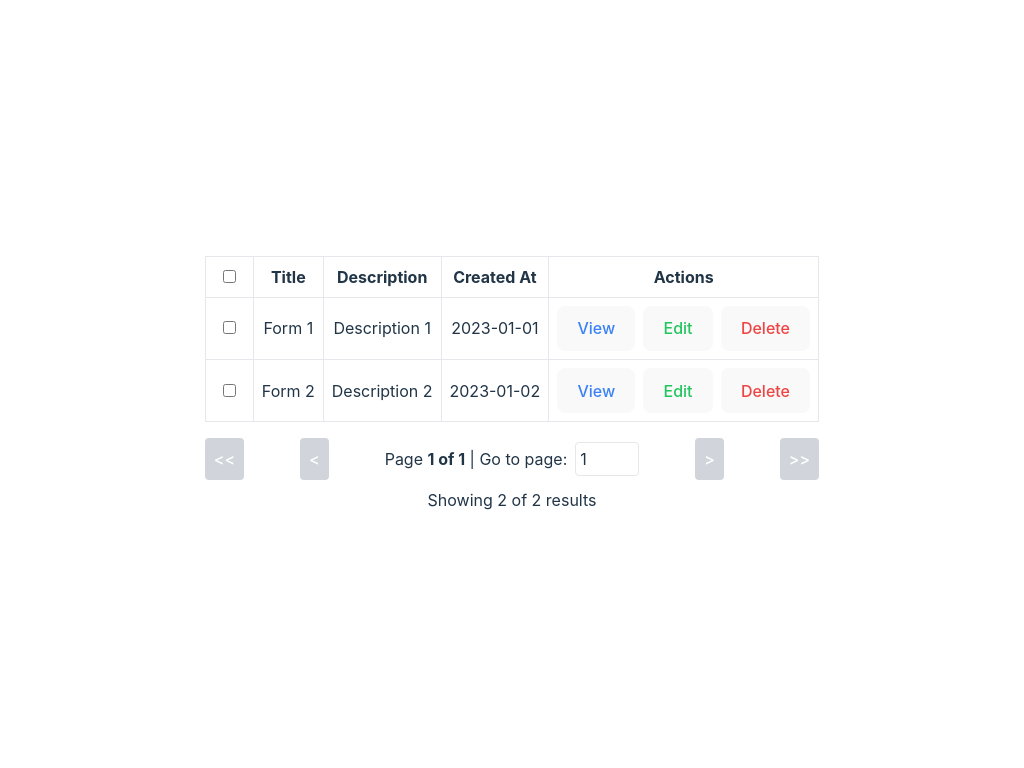
Scenario: AnamnesisFormList › cancels form deletion
Check: the text "Form 1" is shown, box [253,297,323,360]
Step 1. Click the button "Delete" in the row of "Form 1" → (765,328), box [721,306,810,351]
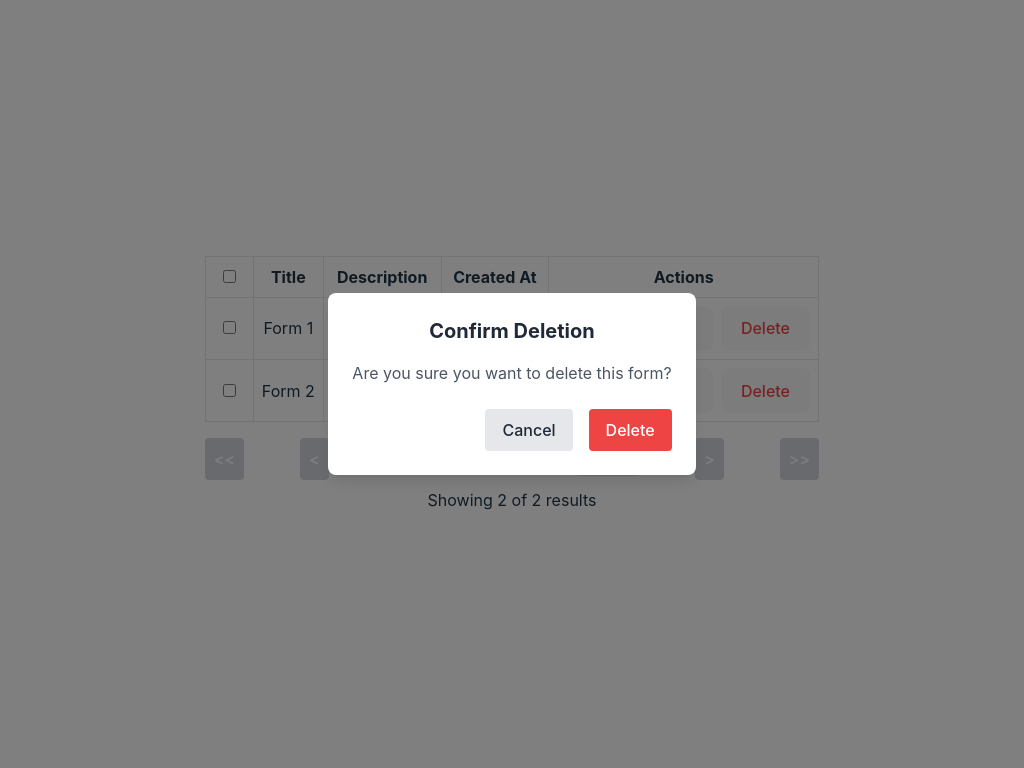
Step 2. Click the button "Cancel" → (529,430), box [486,409,573,451]
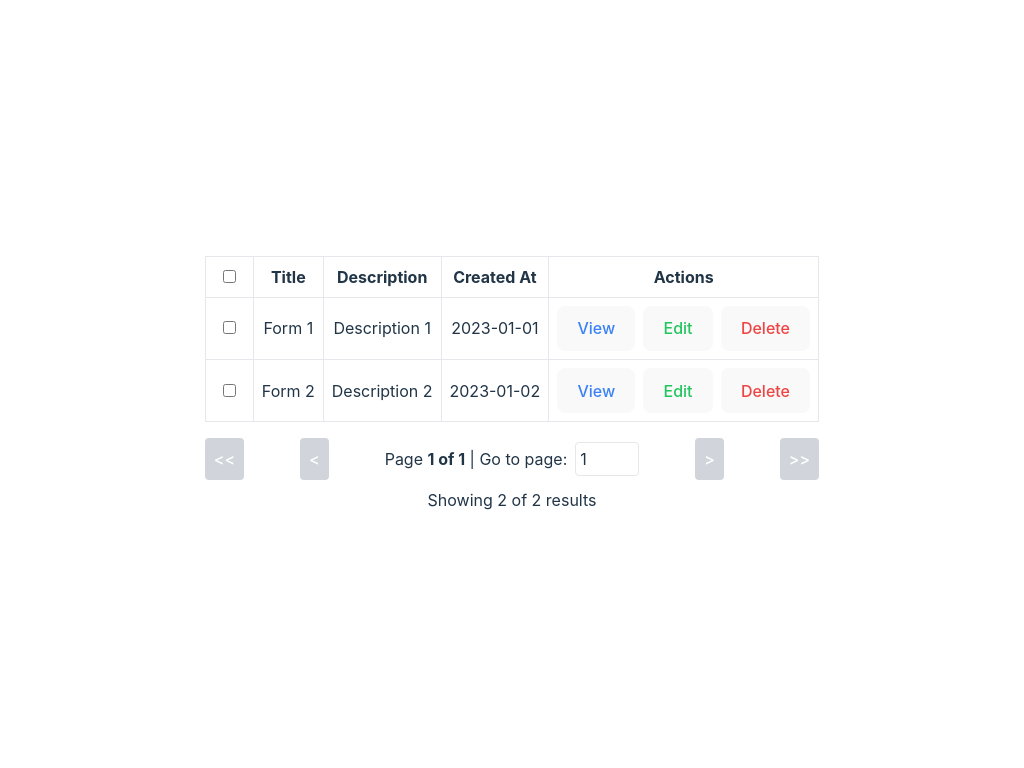
Check: the heading "Confirm Deletion" is gone
